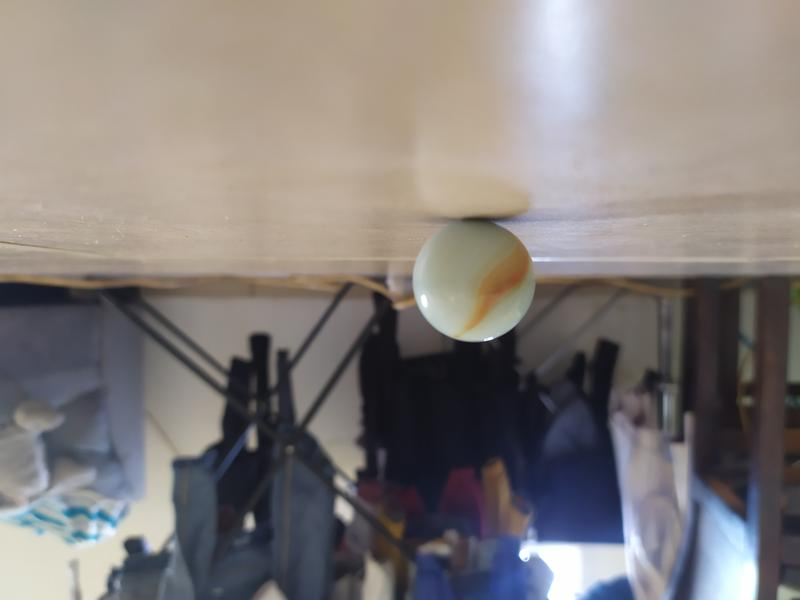Warning: (408, 215, 540, 346)
